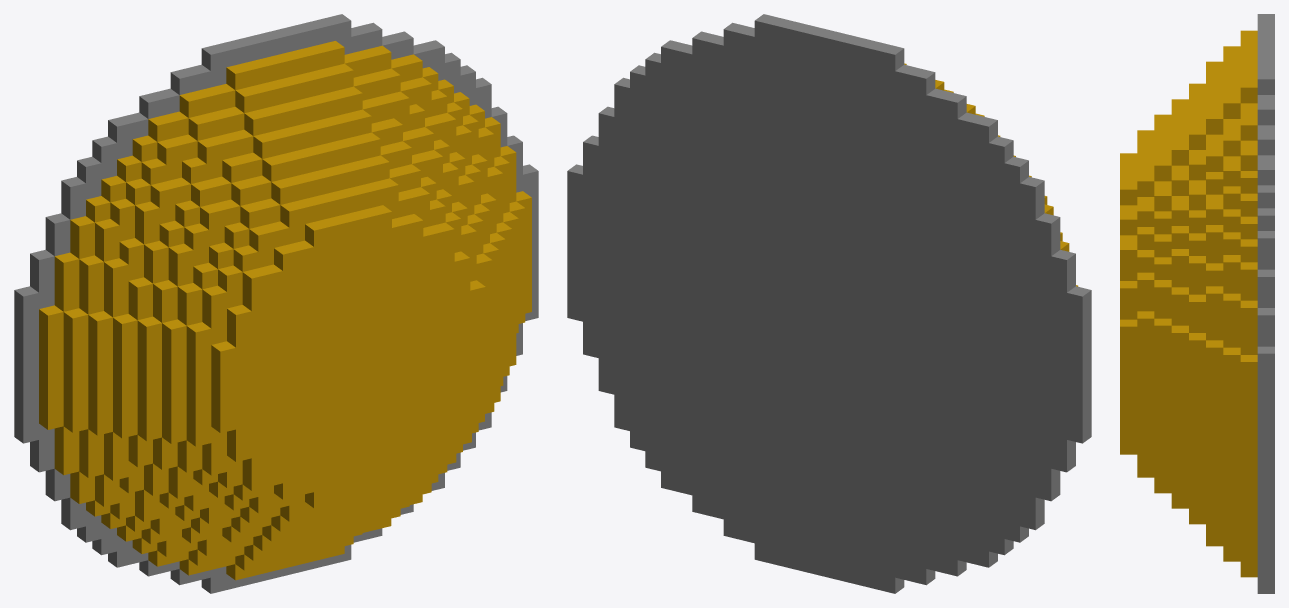
The model's file is lightyellow.obj.
3 views of the same model, side by side, from view 1: azimuth 30°, elevation 25°; view 2: azimuth 150°, elevation 25°; view 3: azimuth 270°, elevation 25° (orthographic). The views are drawn at different scales.
Size of the model in its own units: 33 by 33 by 9.
1 material, 1 textured.
